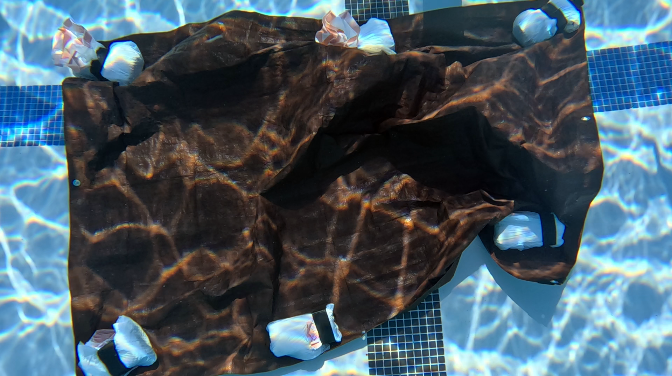sandbag: (52, 0, 605, 374)
